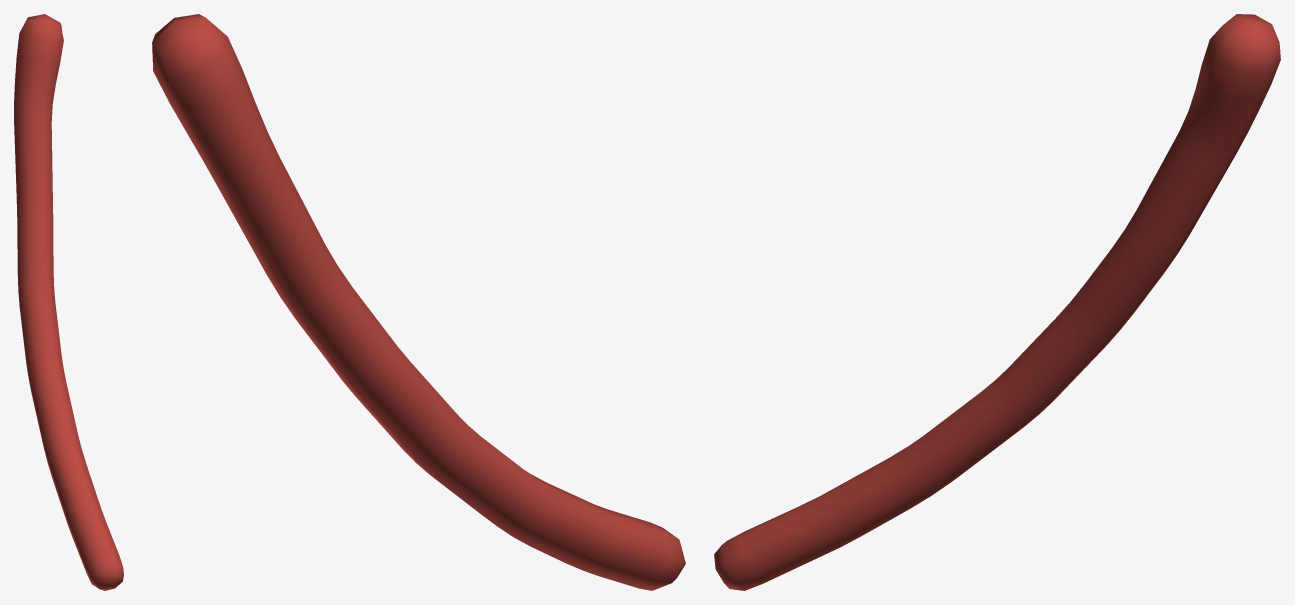
Rendered from musculos-tendon-sheath-of-extensor-hallucis-longus-l.glb.
3 renders of one model, left to right at view 1: azimuth 30°, elevation 25°; view 2: azimuth 150°, elevation 25°; view 3: azimuth 270°, elevation 25°, orthographic. The views are drawn at different scales.
Visible parts, largest first — view 1: Tendon sheath of extensor hallucis longus.l; view 2: Tendon sheath of extensor hallucis longus.l; view 3: Tendon sheath of extensor hallucis longus.l.
Part boxes in pixels (left/top/right/bottom): Tendon sheath of extensor hallucis longus.l: left=14, top=14, right=123, bottom=590; Tendon sheath of extensor hallucis longus.l: left=152, top=14, right=685, bottom=590; Tendon sheath of extensor hallucis longus.l: left=714, top=14, right=1280, bottom=590.
Bounding box in the file's own units: 0.0266 × 0.0782 × 0.0622.
